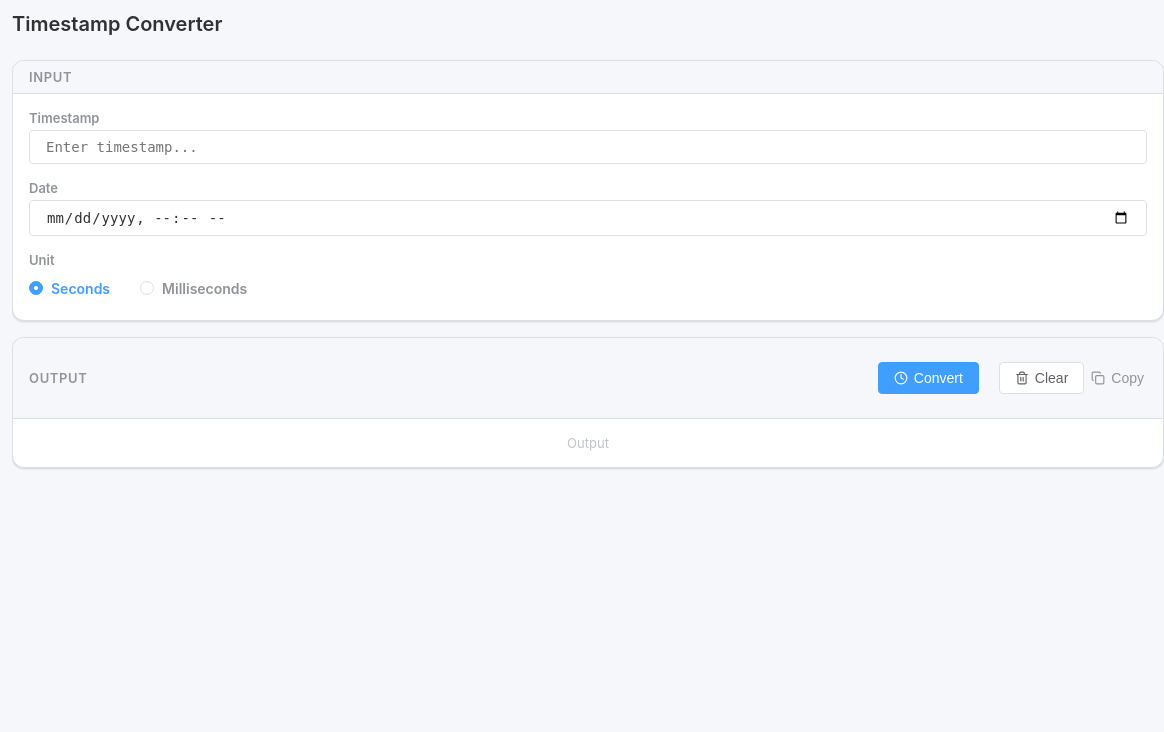
Test case: TimestampConverter › should support millisecond unit
In the field with class "timestamp-input": (588,147) [29,130,1147,164], type "1609459200000"
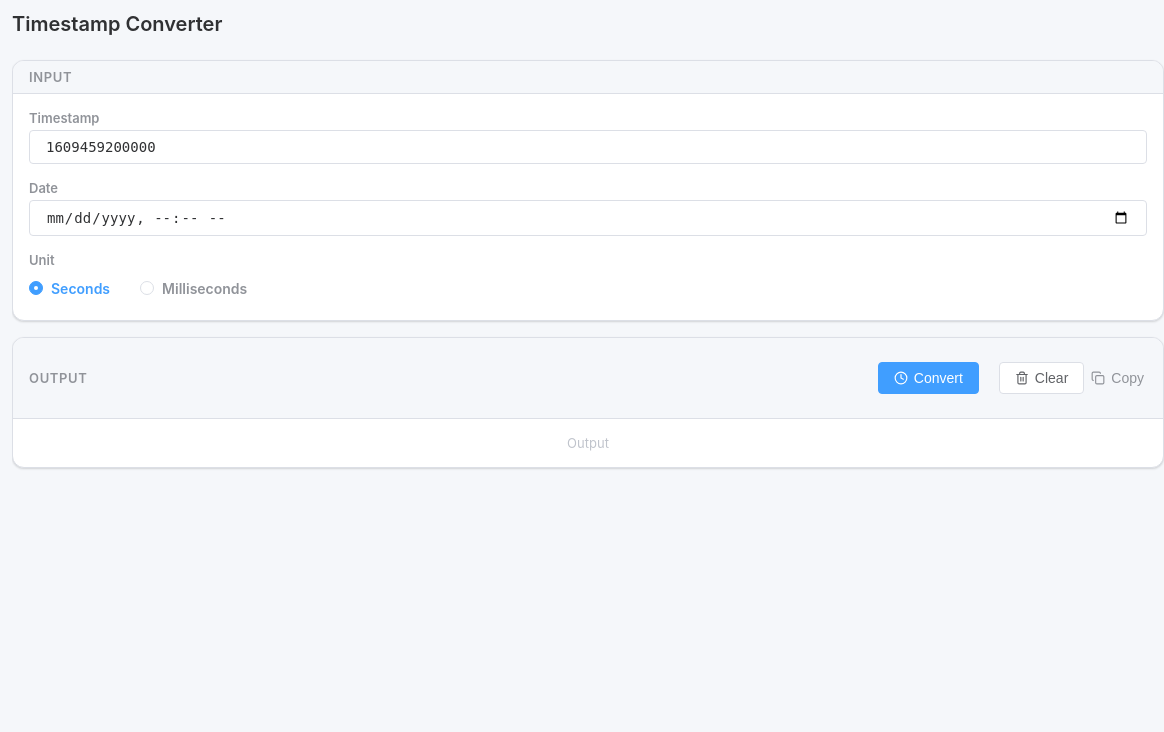
Click the radio button labelled "Milliseconds": (194,288) [140,280,247,296]
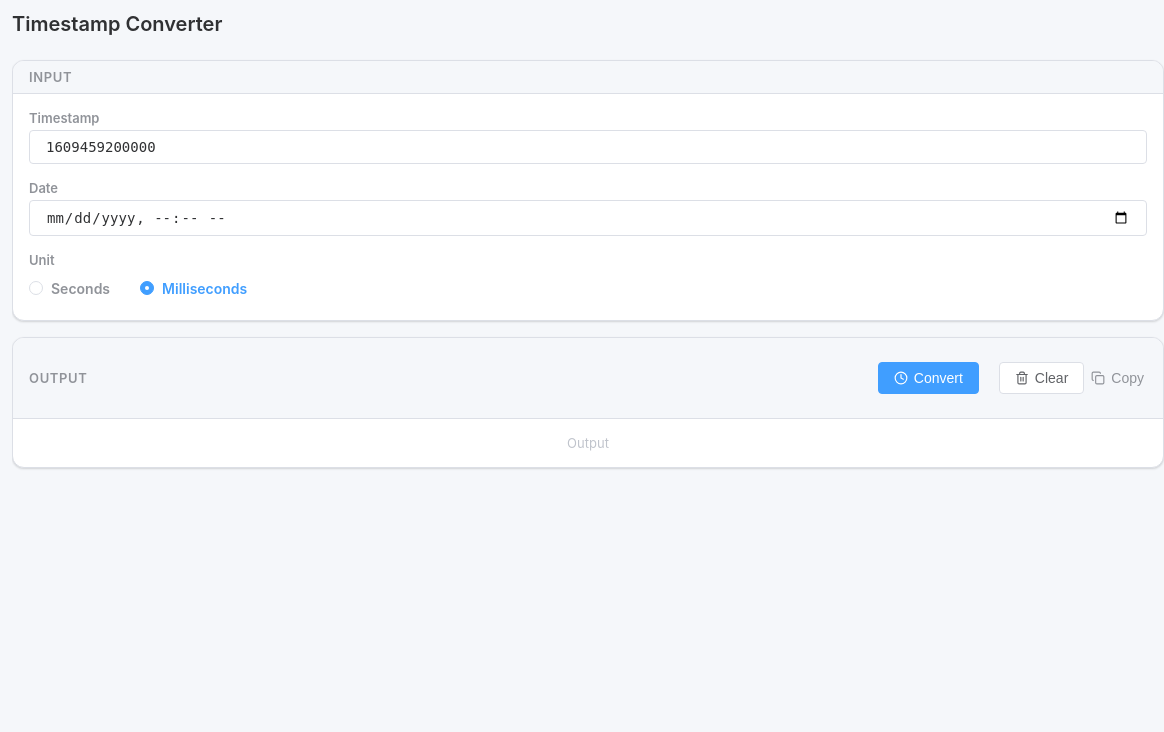
Click the button "Convert": (928,378) [878,362,979,394]
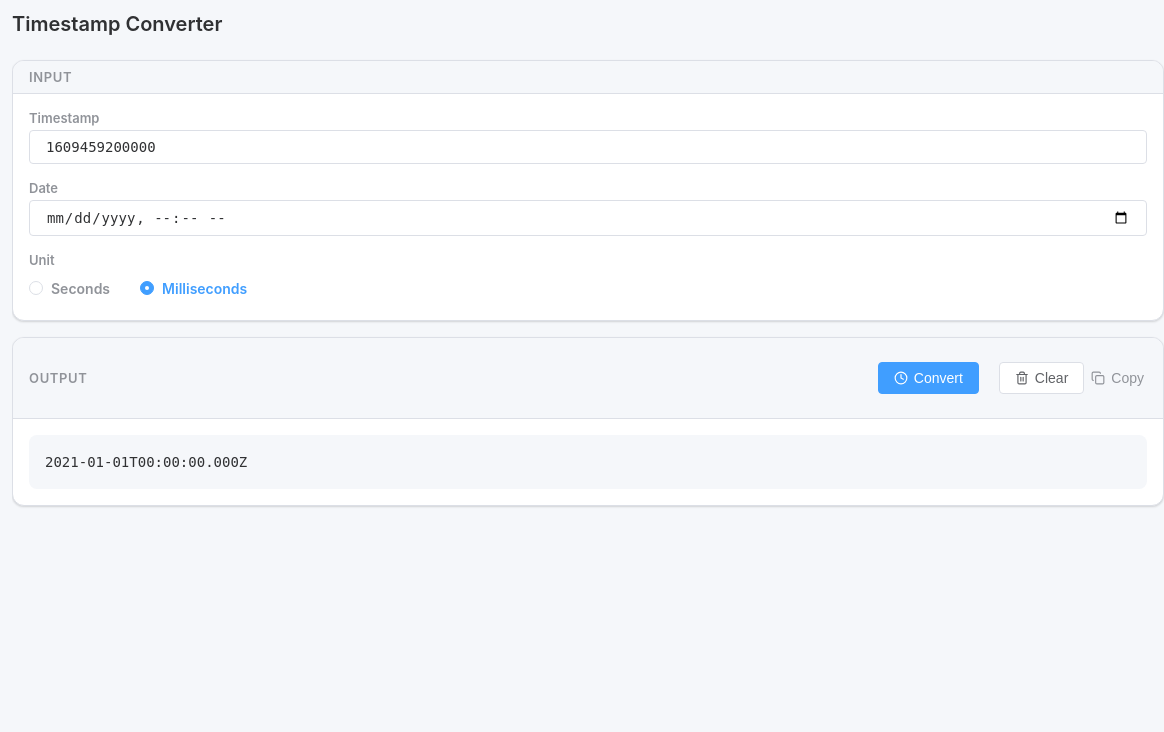
Now the element with class "code-content" shows "2021", box [45,454,247,470]
